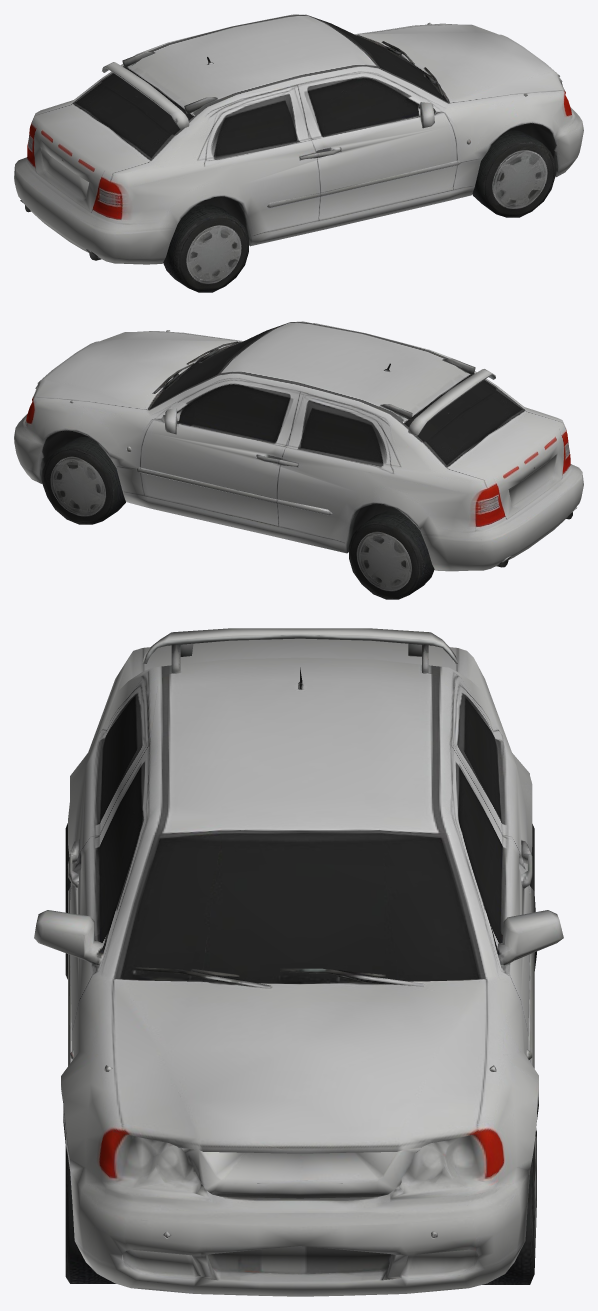
The model's file is wagon.glb.
3 views of the same model, one above another, from view 1: azimuth 30°, elevation 25°; view 2: azimuth 150°, elevation 25°; view 3: azimuth 270°, elevation 25° (orthographic). The views are drawn at different scales.
Visible parts, largest first — view 1: tripo_node_5dd2d140-2784-49ca-a0cb-f40e95107583; view 2: tripo_node_5dd2d140-2784-49ca-a0cb-f40e95107583; view 3: tripo_node_5dd2d140-2784-49ca-a0cb-f40e95107583.
Boxes of the visible parts, x1,y1,x2,y2 form: tripo_node_5dd2d140-2784-49ca-a0cb-f40e95107583: [14, 14, 583, 292]; tripo_node_5dd2d140-2784-49ca-a0cb-f40e95107583: [14, 321, 583, 599]; tripo_node_5dd2d140-2784-49ca-a0cb-f40e95107583: [34, 628, 563, 1296].
Bounding box in the file's own units: 0.998 × 0.3457 × 0.459.
1 material, 1 textured.
